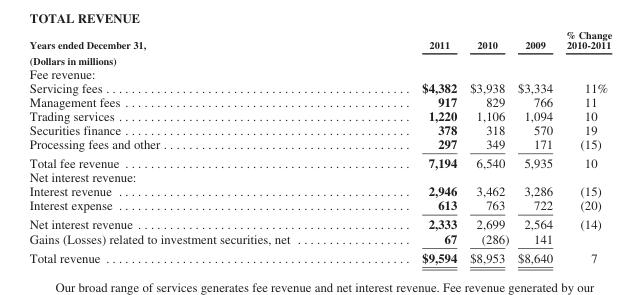table: (28, 28, 611, 264)
table column: (28, 28, 355, 264), (355, 28, 462, 264), (558, 28, 611, 264), (462, 28, 512, 264), (512, 28, 558, 264)
table column header: (28, 28, 611, 52)
table projected row header: (28, 52, 611, 66), (28, 66, 611, 80), (28, 169, 611, 183)
table row: (28, 28, 611, 52), (28, 136, 611, 153), (28, 197, 611, 214), (28, 230, 611, 247), (28, 247, 611, 264), (28, 153, 611, 169), (28, 214, 611, 230), (28, 52, 611, 66), (28, 66, 611, 80), (28, 80, 611, 94), (28, 94, 611, 108), (28, 108, 611, 122), (28, 122, 611, 136), (28, 169, 611, 183), (28, 183, 611, 197)
